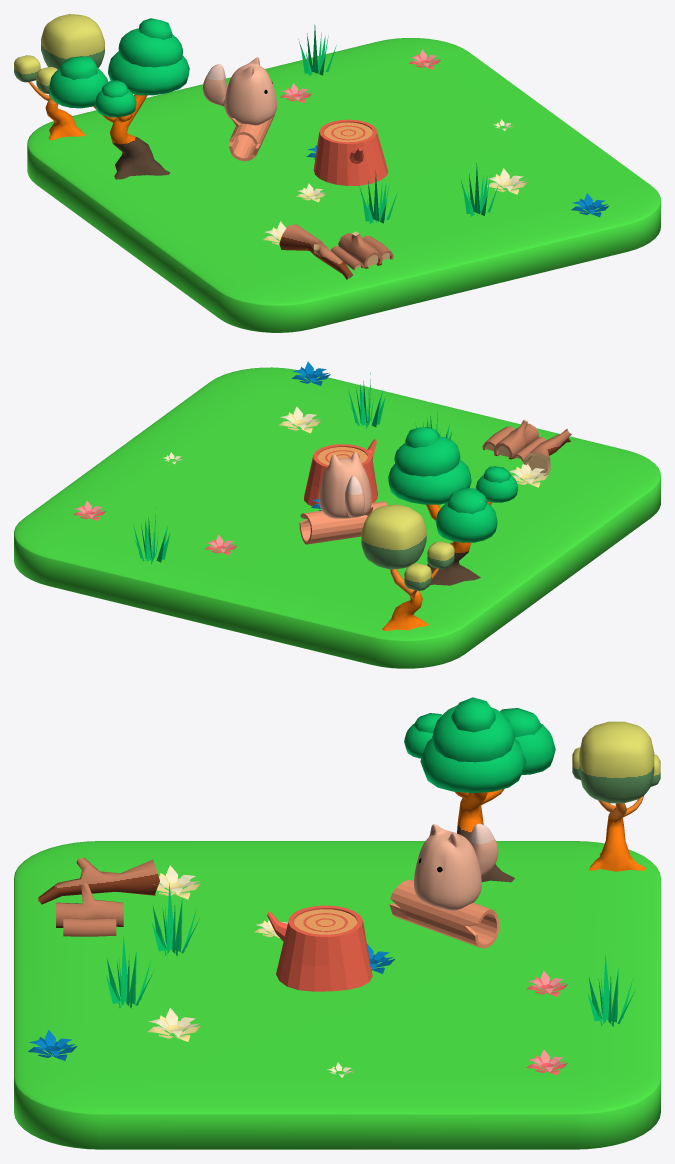
Rendered from init_stage.glb.
The picture shows the model from 3 angles, top to bottom: view 1: azimuth 30°, elevation 25°; view 2: azimuth 150°, elevation 25°; view 3: azimuth 270°, elevation 25°; orthographic projection. The views are drawn at different scales.
Visible parts, largest first — view 1: Cube, Tree.015, Tree.011, Circle.002, Cat.001, Stump.002, Tree.025, Circle.003, Grass.002, Grass.001, Grass.003, Flowers.008 (+1 smaller); view 2: Cube, Tree.015, Tree.011, Cat.001, Circle.002, Circle.003, Stump.002, Tree.025, Grass.002, Grass.003, Flowers.008, Flowers.001 (+1 smaller); view 3: Cube, Tree.015, Tree.011, Circle.002, Cat.001, Circle.003, Tree.025, Stump.002, Grass.002, Grass.001, Grass.003, Flowers.008 (+2 smaller).
Part boxes in pixels (x1,y1,x2,y2): Cube: [27, 38, 660, 332]; Tree.015: [49, 18, 189, 179]; Tree.011: [14, 14, 104, 140]; Circle.002: [313, 119, 387, 185]; Cat.001: [202, 57, 276, 125]; Stump.002: [330, 231, 393, 270]; Tree.025: [279, 224, 352, 279]; Circle.003: [229, 114, 274, 161]; Grass.002: [461, 163, 498, 216]; Grass.001: [359, 170, 397, 223]; Grass.003: [298, 24, 336, 75]; Flowers.008: [487, 168, 527, 194]; Cube: [14, 367, 660, 668]; Tree.015: [388, 427, 517, 585]; Tree.011: [361, 504, 454, 631]; Cat.001: [319, 452, 371, 518]; Circle.002: [304, 439, 377, 506]; Circle.003: [299, 501, 387, 544]; Stump.002: [482, 420, 545, 460]; Tree.025: [522, 429, 571, 478]; Grass.002: [348, 372, 385, 428]; Grass.003: [133, 507, 170, 564]; Flowers.008: [278, 406, 321, 433]; Flowers.001: [509, 463, 548, 487]; Cube: [14, 841, 660, 1149]; Tree.015: [404, 697, 555, 882]; Tree.011: [572, 721, 660, 871]; Circle.002: [267, 905, 372, 991]; Cat.001: [414, 823, 498, 910]; Circle.003: [389, 879, 499, 948]; Tree.025: [38, 858, 159, 904]; Stump.002: [56, 882, 123, 936]; Grass.002: [106, 935, 153, 1008]; Grass.001: [151, 883, 199, 955]; Grass.003: [587, 953, 635, 1026]; Flowers.008: [147, 1008, 201, 1041].
Bounding box in the file's own units: 20.25 × 7.86 × 20.
Materials: 23 (15 with a texture image).
